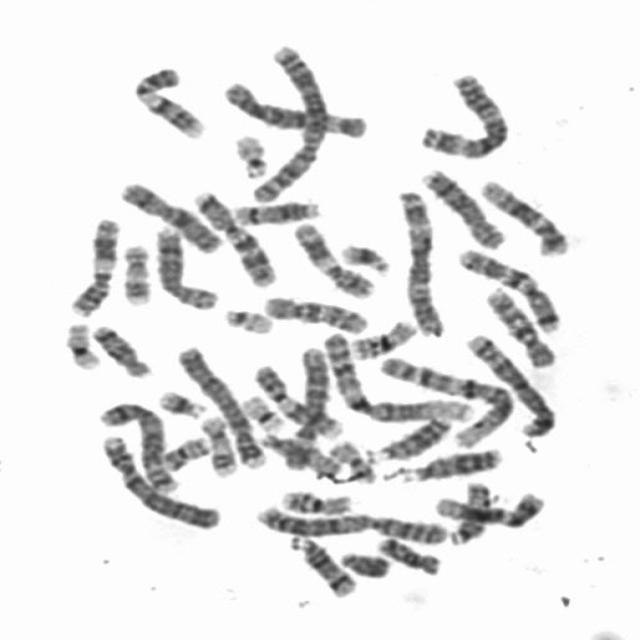A1: (316, 326, 478, 425), (371, 350, 517, 450)
A2: (245, 39, 332, 203), (248, 502, 451, 546)
A3: (413, 68, 513, 159), (390, 185, 446, 338)
B4: (95, 429, 223, 531), (171, 340, 270, 470)
B5: (460, 327, 560, 439), (92, 395, 183, 495)
C10: (480, 281, 560, 369), (258, 290, 372, 336)
C11: (287, 216, 378, 300), (64, 211, 124, 318)
C12: (474, 175, 573, 258), (428, 486, 547, 530)
C6: (217, 74, 372, 140), (280, 343, 331, 471)
C7: (452, 243, 564, 334), (185, 186, 278, 288)
C8: (415, 164, 508, 251), (150, 221, 222, 311)
C9: (250, 360, 350, 440), (127, 61, 209, 140)
D13: (365, 410, 456, 462), (397, 442, 504, 484)
D14: (284, 531, 358, 599), (226, 195, 324, 228)
D15: (250, 428, 342, 478), (446, 476, 496, 546)
E16: (344, 314, 418, 361), (275, 484, 356, 516)
E17: (196, 411, 239, 478), (117, 238, 154, 307)
E18: (86, 319, 154, 380), (370, 530, 444, 576)
F19: (236, 388, 288, 434), (60, 317, 103, 372)
F20: (326, 436, 380, 484), (156, 432, 214, 472)
G21: (335, 237, 393, 276), (153, 384, 209, 419)
G22: (228, 128, 271, 180), (218, 303, 276, 336)
X: (116, 177, 225, 256)
Y: (335, 545, 393, 579)
